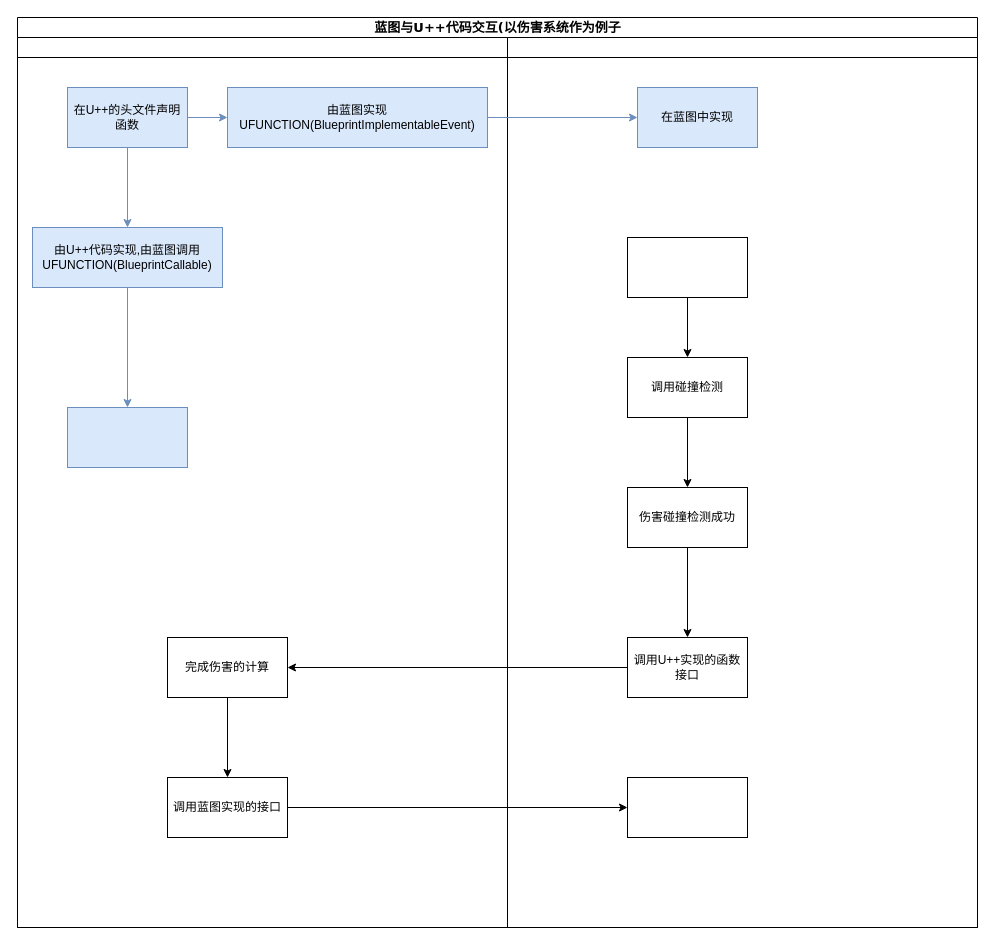
This 995x945 diagram has some shape labels left out. The shapes that lost their labels are listed below. From the top down, each one's box as (x1, y1, x2, y2) in pixels, then its label:
(626, 236, 748, 298): 攻击动画通知->武器蓝图
(66, 406, 188, 468): 在U++中实现
(16, 36, 508, 928): U++
(506, 36, 978, 928): 蓝图
(626, 776, 748, 838): 显示伤害相关的动画表现以及UI变化
